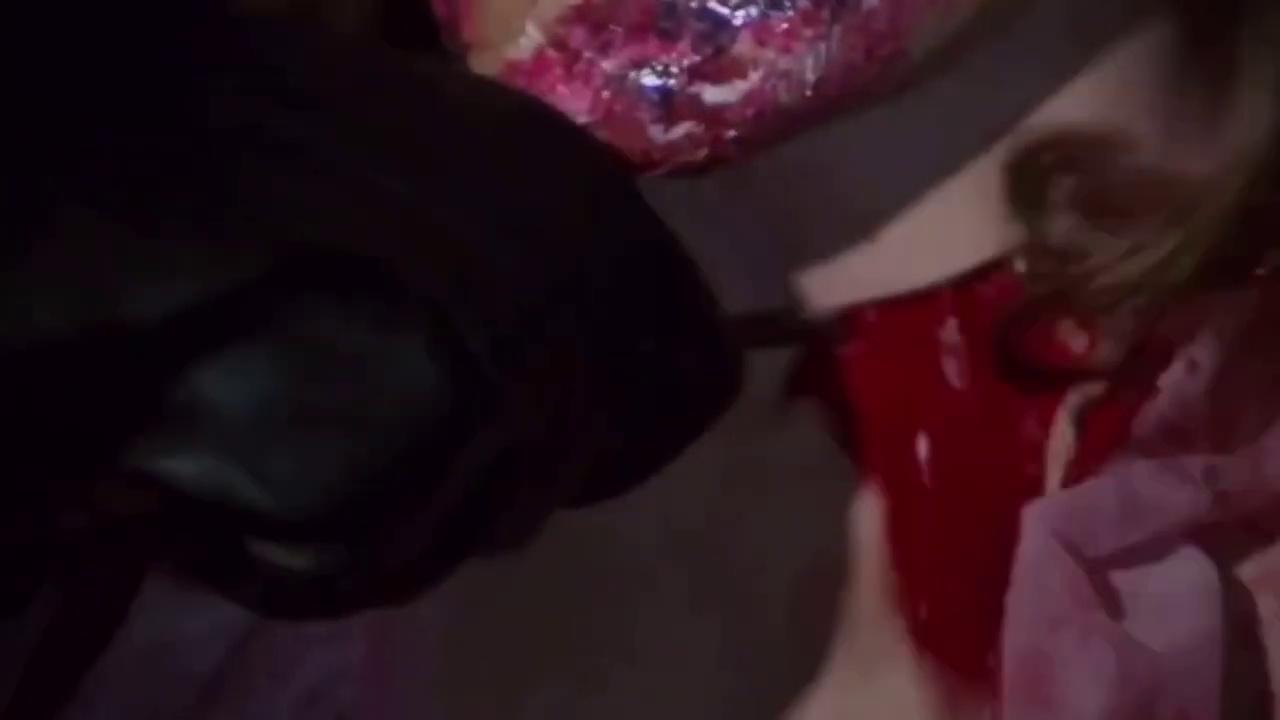Fire: (785, 3, 1280, 718), (437, 0, 978, 170)
